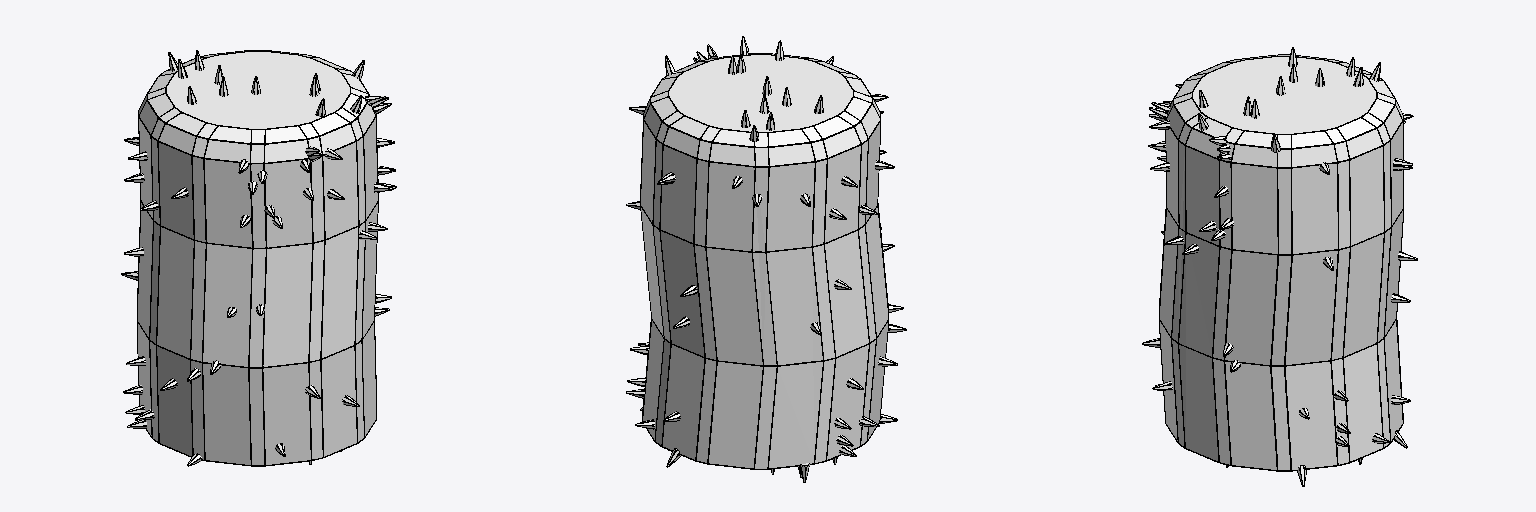
The model's file is cactus_small_2.obj.
3 renders of one model, left to right at view 1: azimuth 30°, elevation 25°; view 2: azimuth 150°, elevation 25°; view 3: azimuth 270°, elevation 25°, orthographic.
Parts seen in each view (by area): view 1: cactus_small_2.004; view 2: cactus_small_2.004; view 3: cactus_small_2.004.
Part boxes in pixels (x1,y1,x2,y2): cactus_small_2.004: (121, 50, 396, 466); cactus_small_2.004: (626, 36, 906, 482); cactus_small_2.004: (1142, 47, 1417, 486).
Bounding box in the file's own units: 1.56 × 2.31 × 1.61.